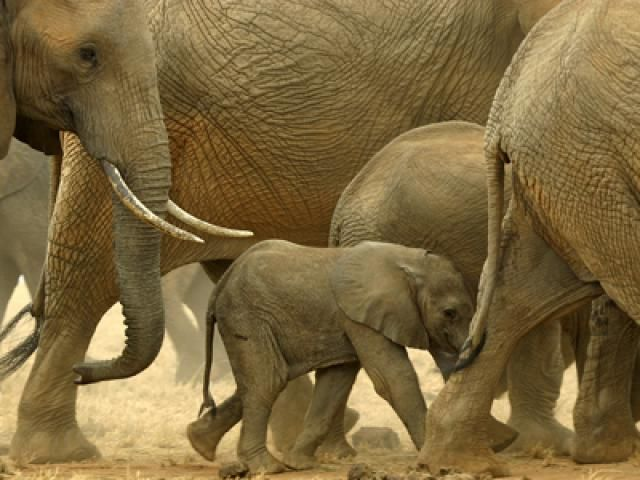elephant: (423, 2, 640, 477), (1, 1, 254, 394), (203, 236, 492, 480)
